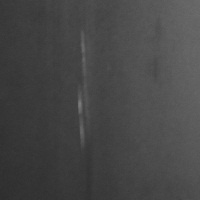inclusion: (147, 47, 162, 81)
scratches: (75, 30, 93, 151)
